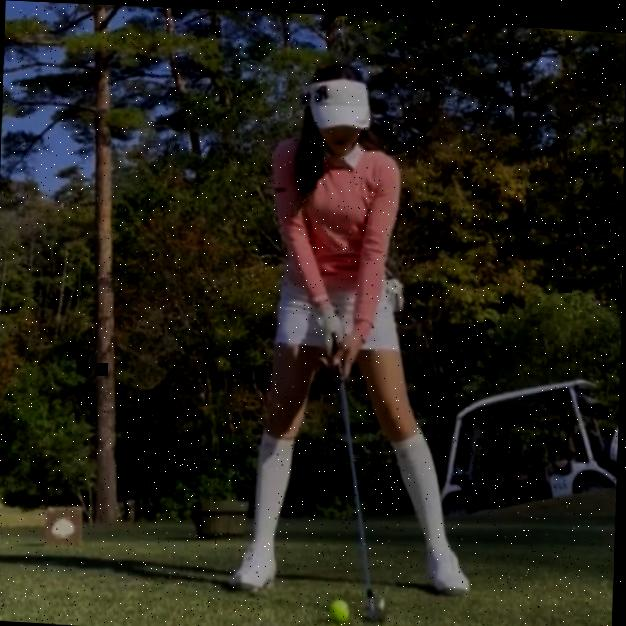ClubHead: (363, 592, 387, 620)
GolfBall: (330, 594, 353, 620)
